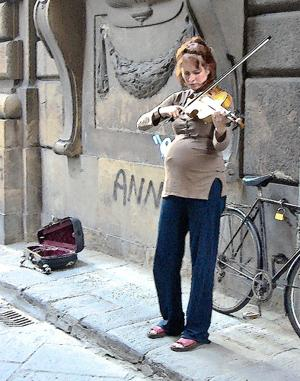person: (137, 37, 246, 353)
